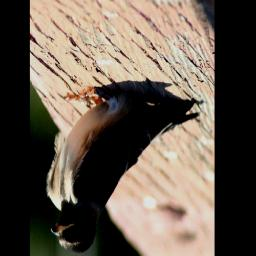Swallow: (45, 84, 202, 255)
